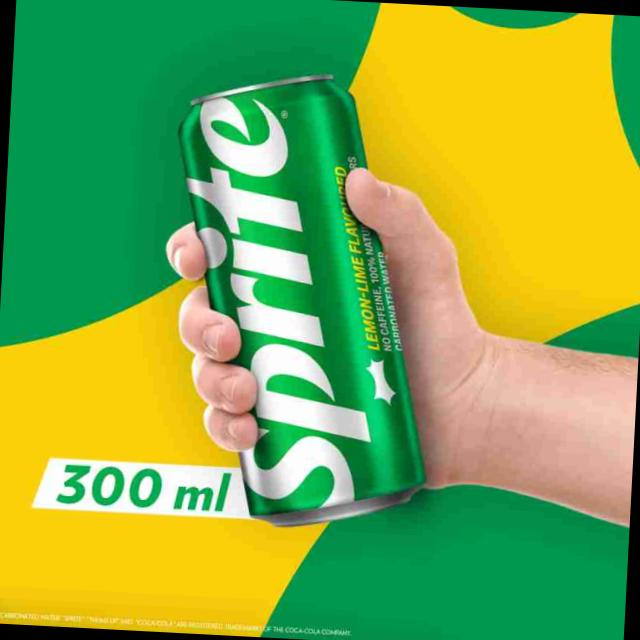sprite: (152, 74, 449, 543)
